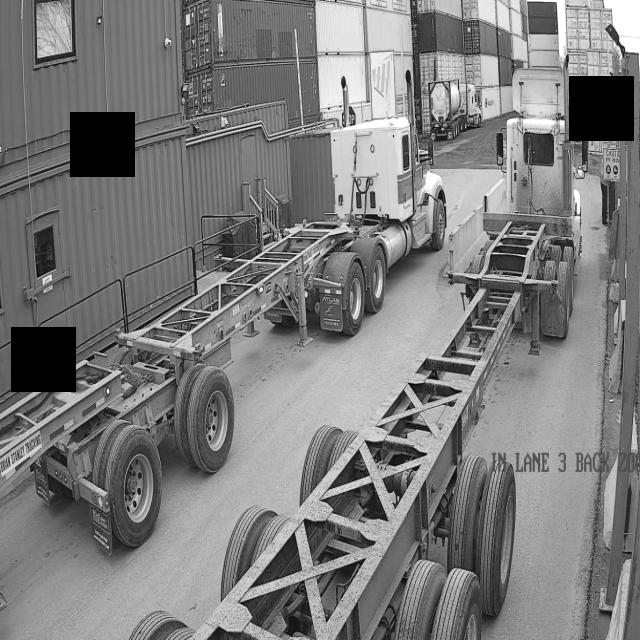truck_without_container: (129, 67, 581, 640), (0, 116, 447, 553)
